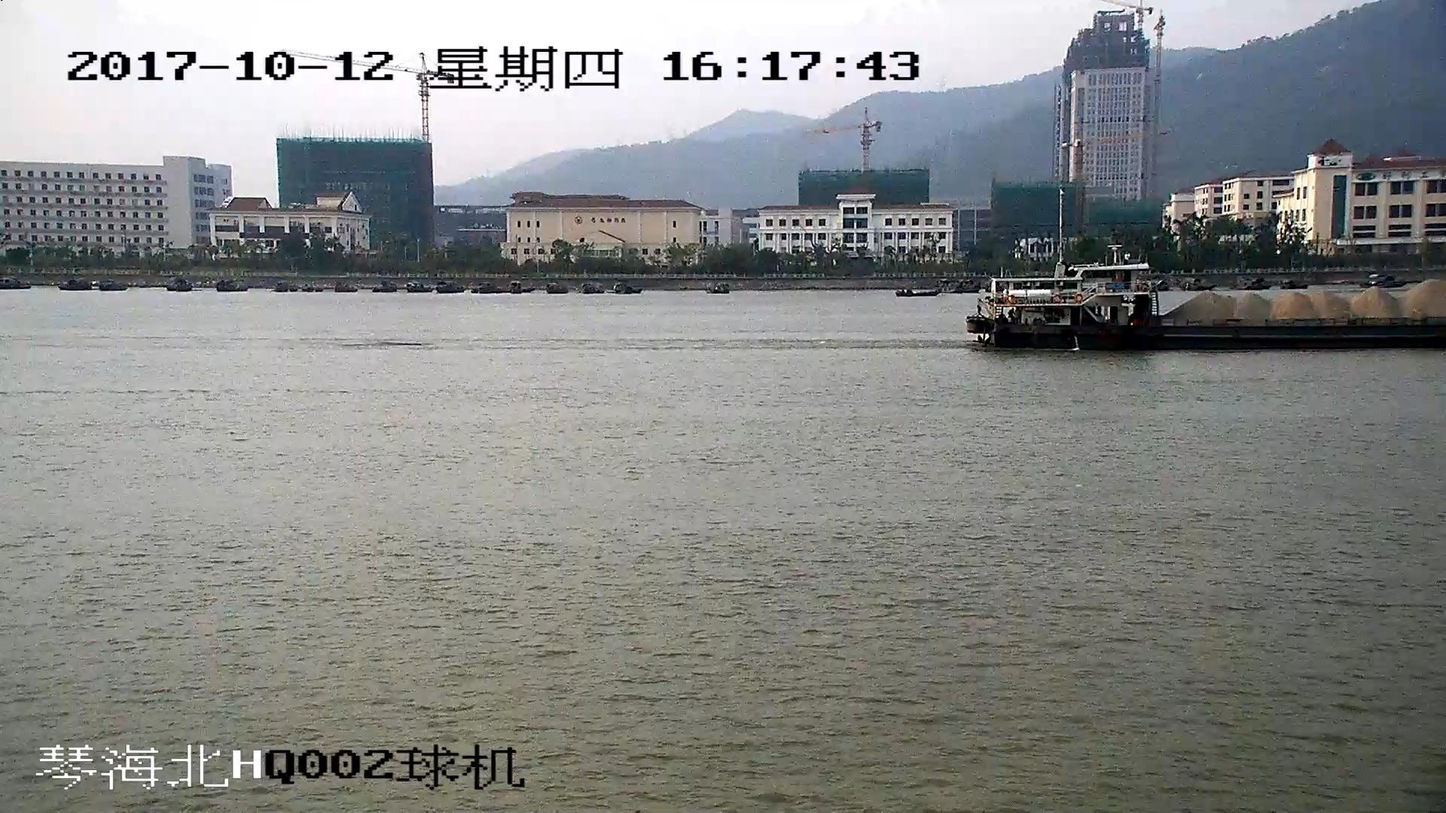ore carrier: (974, 266, 1445, 351)
